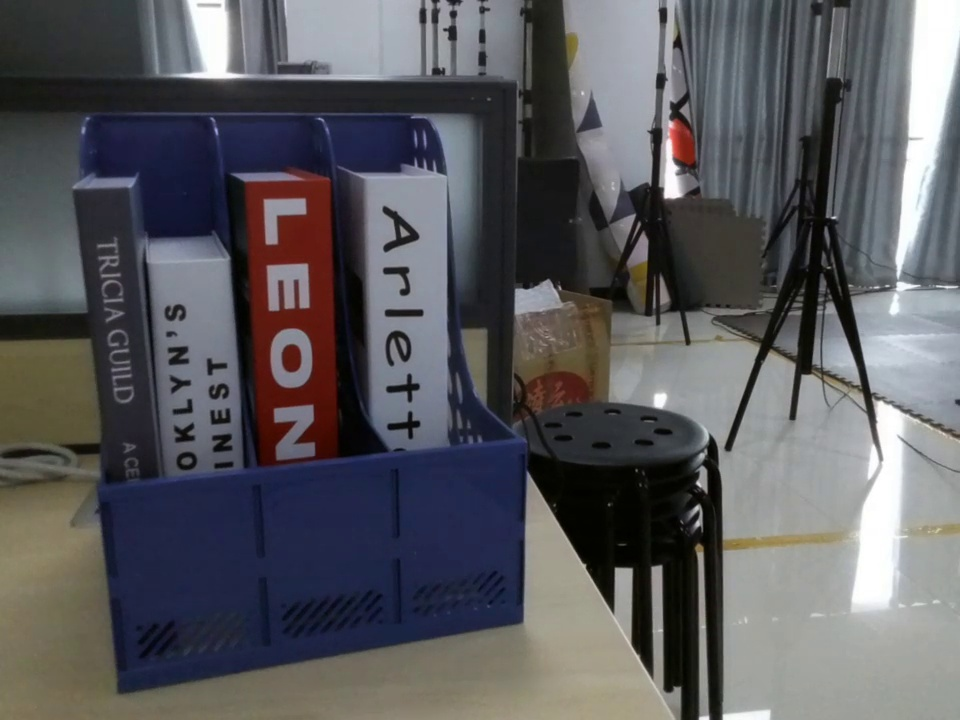files: (69, 107, 526, 694)
